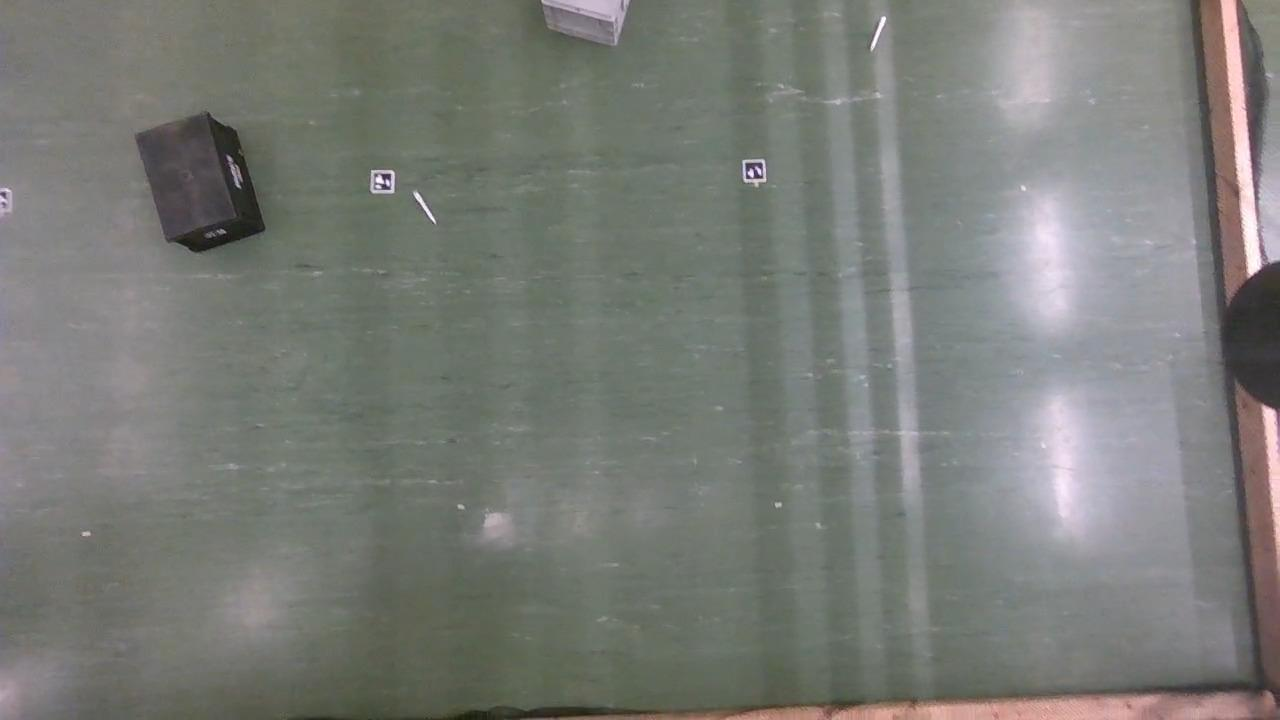probes: (415, 192, 435, 225), (871, 16, 885, 53)
rako: (135, 114, 264, 255)
